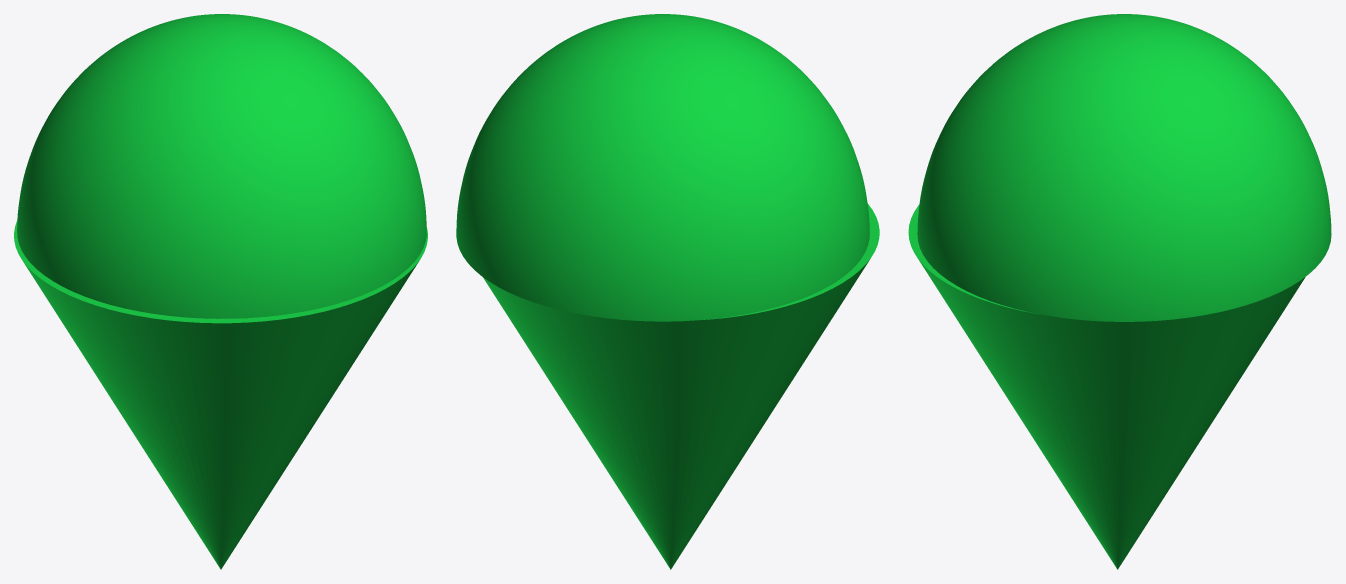
The model's file is point.fbx.
The picture shows the model from 3 angles, left to right: view 1: azimuth 30°, elevation 25°; view 2: azimuth 150°, elevation 25°; view 3: azimuth 270°, elevation 25°; orthographic projection.
Visible parts, largest first — view 1: root (×2); view 2: root (×2); view 3: root (×2).
Boxes of the visible parts, x1,y1,x2,y2 form: root (×2): (14, 14, 427, 569); root (×2): (456, 14, 879, 569); root (×2): (908, 14, 1331, 569).
Bounding box in the file's own units: 0.1071 × 0.1514 × 0.1075.
2 materials, 2 textured.
